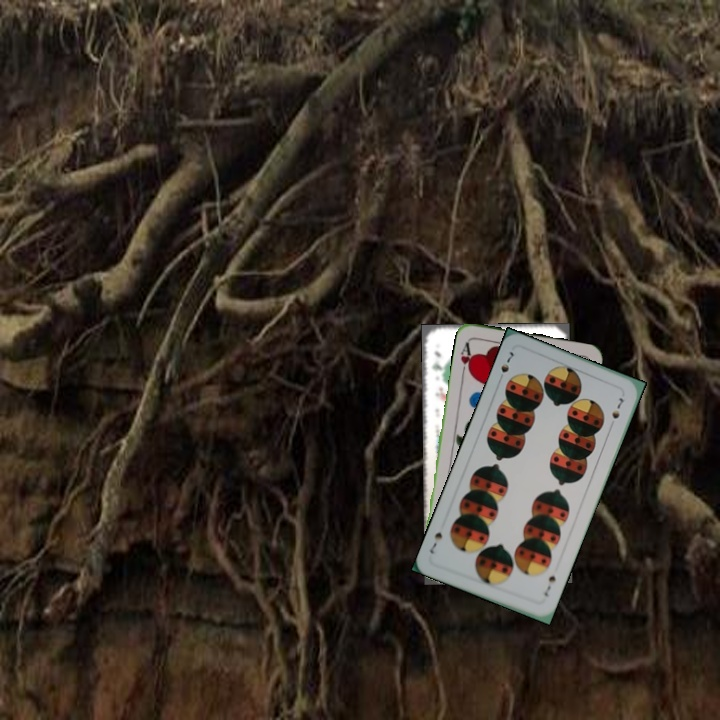GK: (429, 346, 444, 374)
HA: (456, 338, 476, 378)
S7: (494, 347, 516, 385), (540, 571, 558, 599)
